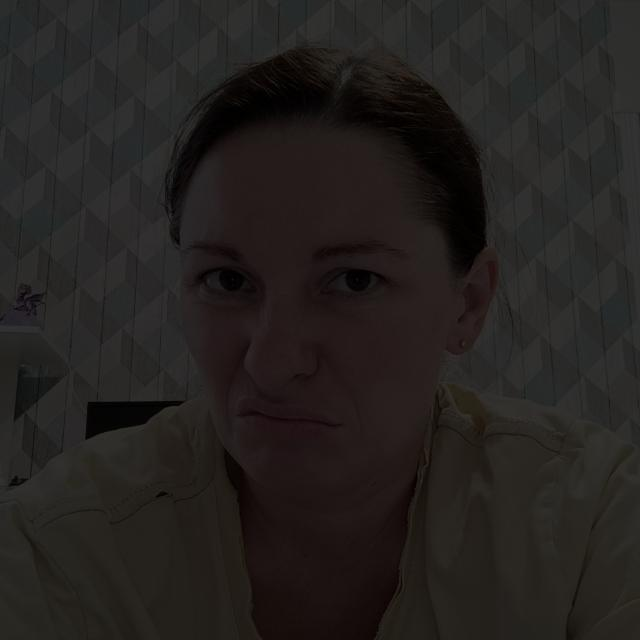Disgust: (119, 113, 530, 515)
